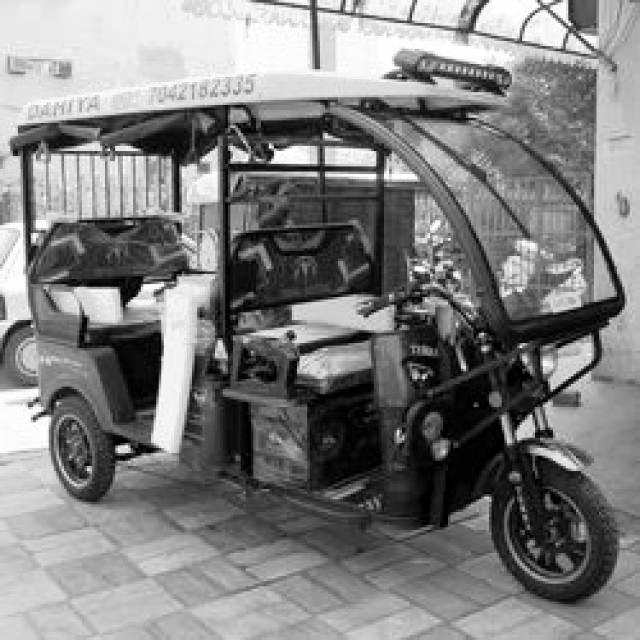Toto: (0, 76, 631, 596)
